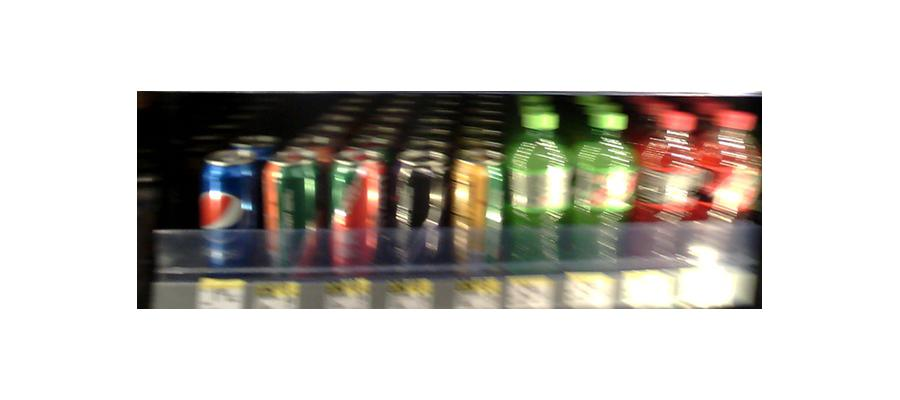bottle: (506, 104, 569, 270), (572, 103, 632, 274), (636, 103, 688, 269), (449, 136, 505, 269), (198, 144, 254, 275), (388, 144, 444, 269), (330, 150, 381, 272), (266, 151, 314, 272)
